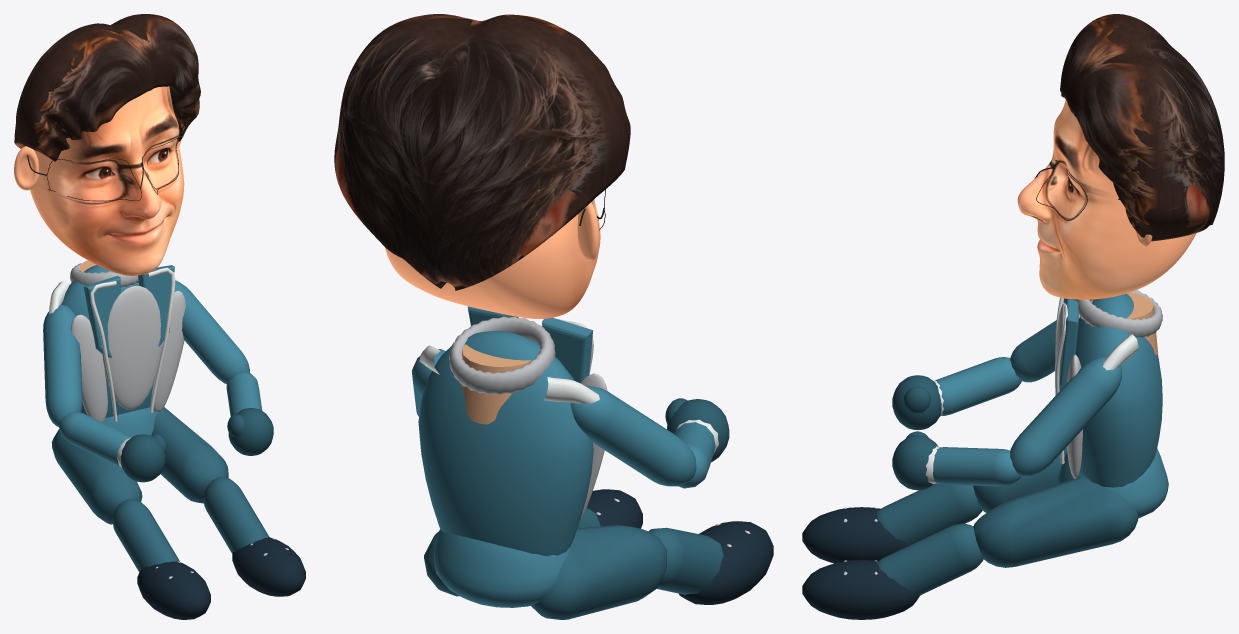
File: father.glb
3 renders of one model, left to right at view 1: azimuth 30°, elevation 25°; view 2: azimuth 150°, elevation 25°; view 3: azimuth 270°, elevation 25°, orthographic. The views are drawn at different scales.
Visible parts, largest first — view 1: Driver_father, PortraitVolumeFace, PortraitHair_father, UpperArm_L, UpperArm_R, Forearm_L, Hand_L, Hand_R, Forearm_R, PortraitEar_-1, Crewneck_father; view 2: PortraitHair_father, Driver_father, PortraitVolumeFace, UpperArm_L, Crewneck_father, Hand_L, Forearm_L, PortraitEar_-1, UpperArm_R; view 3: Driver_father, PortraitHair_father, PortraitVolumeFace, UpperArm_R, Forearm_R, Forearm_L, Hand_L, UpperArm_L, Hand_R, Crewneck_father.
Part boxes in pixels (x1=…): Driver_father: x1=49, y1=260, x2=305, y2=619; PortraitVolumeFace: x1=30, y1=86, x2=184, y2=275; PortraitHair_father: x1=14, y1=14, x2=200, y2=161; UpperArm_L: x1=43, y1=304, x2=82, y2=427; UpperArm_R: x1=174, y1=280, x2=249, y2=384; Forearm_L: x1=59, y1=412, x2=131, y2=467; Hand_L: x1=120, y1=434, x2=167, y2=482; Hand_R: x1=227, y1=408, x2=273, y2=455; Forearm_R: x1=226, y1=371, x2=262, y2=416; PortraitEar_-1: x1=14, y1=146, x2=38, y2=190; Crewneck_father: x1=70, y1=263, x2=138, y2=287; PortraitHair_father: x1=334, y1=14, x2=630, y2=290; Driver_father: x1=418, y1=306, x2=773, y2=619; PortraitVolumeFace: x1=385, y1=199, x2=600, y2=318; UpperArm_L: x1=570, y1=386, x2=696, y2=486; Crewneck_father: x1=449, y1=316, x2=555, y2=394; Hand_L: x1=665, y1=398, x2=729, y2=462; Forearm_L: x1=673, y1=419, x2=718, y2=488; PortraitEar_-1: x1=577, y1=202, x2=599, y2=260; UpperArm_R: x1=412, y1=349, x2=445, y2=416; Driver_father: x1=802, y1=293, x2=1168, y2=619; PortraitHair_father: x1=1060, y1=14, x2=1224, y2=241; PortraitVolumeFace: x1=1017, y1=100, x2=1196, y2=299; UpperArm_R: x1=1010, y1=356, x2=1121, y2=476; Forearm_R: x1=925, y1=446, x2=1020, y2=486; Forearm_L: x1=933, y1=357, x2=1021, y2=416; Hand_L: x1=892, y1=375, x2=941, y2=430; UpperArm_L: x1=1010, y1=320, x2=1056, y2=382; Hand_R: x1=892, y1=431, x2=938, y2=490; Crewneck_father: x1=1076, y1=290, x2=1162, y2=338.
Size of the model in its own units: 1.23 by 2.87 by 1.96.
Materials: 12 (2 with a texture image).
